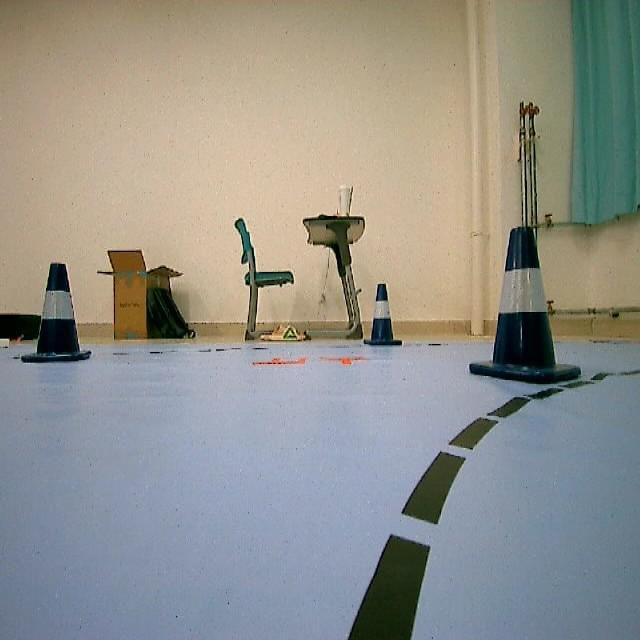obstacle: (466, 224, 578, 383), (25, 258, 92, 368), (364, 279, 399, 347)
